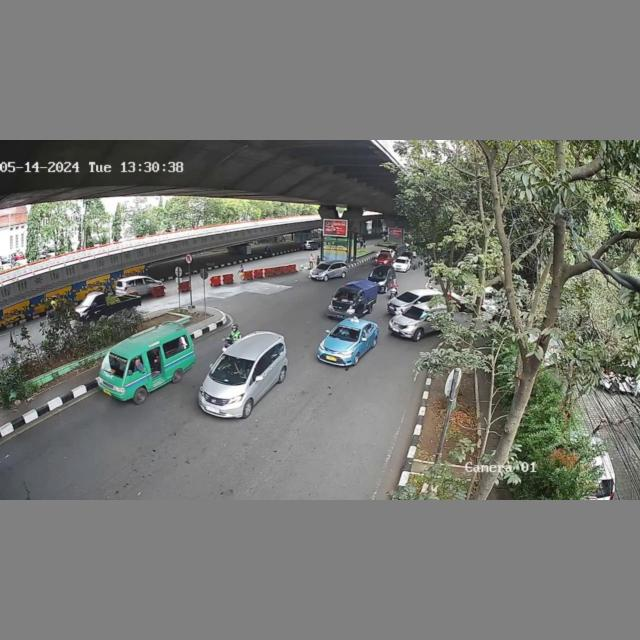windshield: (211, 353, 253, 383), (98, 353, 130, 377), (330, 326, 360, 343), (334, 289, 361, 303)
